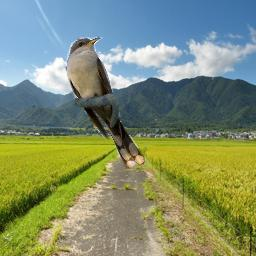Cuckoo: (66, 37, 145, 169)
